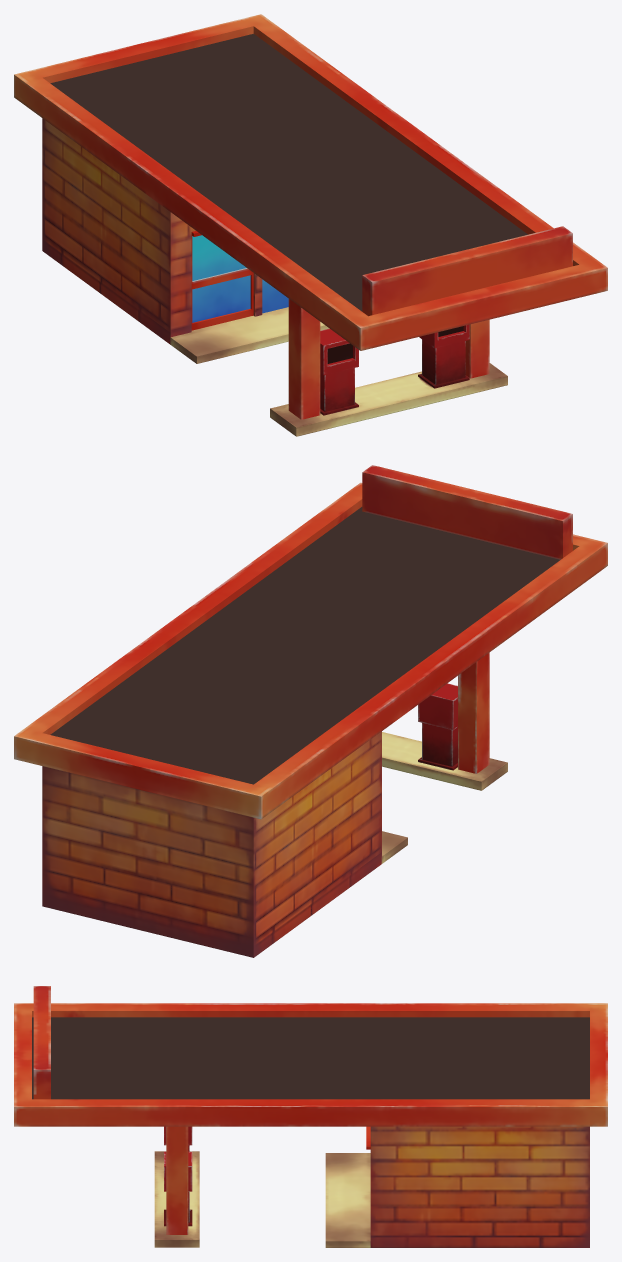
Rendered from SM_ARCH_GasStation.fbx.
The picture shows the model from 3 angles, top to bottom: view 1: azimuth 30°, elevation 25°; view 2: azimuth 150°, elevation 25°; view 3: azimuth 270°, elevation 25°; orthographic projection. The views are drawn at different scales.
Visible parts, largest first — view 1: m_gasStation_low, m_chargerBase_low, m_frame_low, m_charger_low; view 2: m_gasStation_low, m_frame_low, m_chargerBase_low, m_charger_low; view 3: m_gasStation_low, m_chargerBase_low, m_frame_low, m_charger_low.
Boxes of the visible parts, box(x1,y1,x2,y2) form: m_gasStation_low: box(14, 14, 607, 363); m_chargerBase_low: box(270, 299, 507, 436); m_frame_low: box(362, 226, 572, 316); m_charger_low: box(320, 324, 469, 415); m_gasStation_low: box(14, 482, 607, 957); m_frame_low: box(362, 465, 572, 559); m_chargerBase_low: box(382, 652, 507, 790); m_charger_low: box(418, 683, 457, 770); m_gasStation_low: box(14, 1003, 607, 1247); m_chargerBase_low: box(154, 1126, 199, 1247); m_frame_low: box(33, 986, 50, 1099); m_charger_low: box(164, 1126, 192, 1226).
Bounding box in the file's own units: 454 × 360 × 1102.
1 material, 1 textured.
